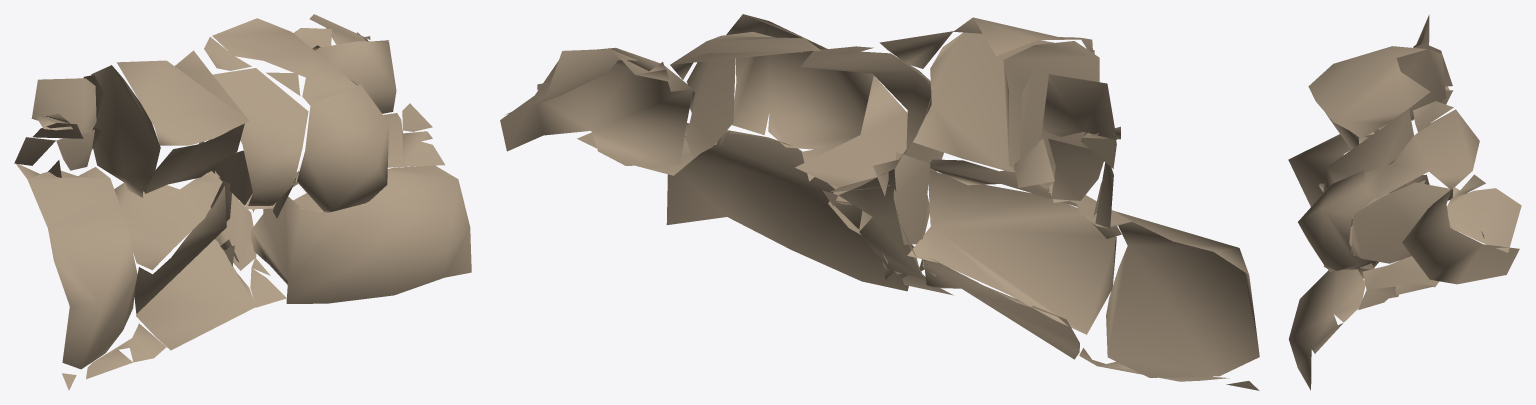
Rendered from cliff-wall-sandstone-lod1.glb.
3 renders of one model, left to right at view 1: azimuth 30°, elevation 25°; view 2: azimuth 150°, elevation 25°; view 3: azimuth 270°, elevation 25°, orthographic. The views are drawn at different scales.
Visible parts, largest first — view 1: cliff-wall-sandstone.001; view 2: cliff-wall-sandstone.001; view 3: cliff-wall-sandstone.001.
Part boxes in pixels (<box>): cliff-wall-sandstone.001: <box>14,14,471,390</box>; cliff-wall-sandstone.001: <box>500,14,1259,390</box>; cliff-wall-sandstone.001: <box>1288,15,1521,390</box>.
Size of the model in its own units: 16.78 by 9.92 by 8.97.
